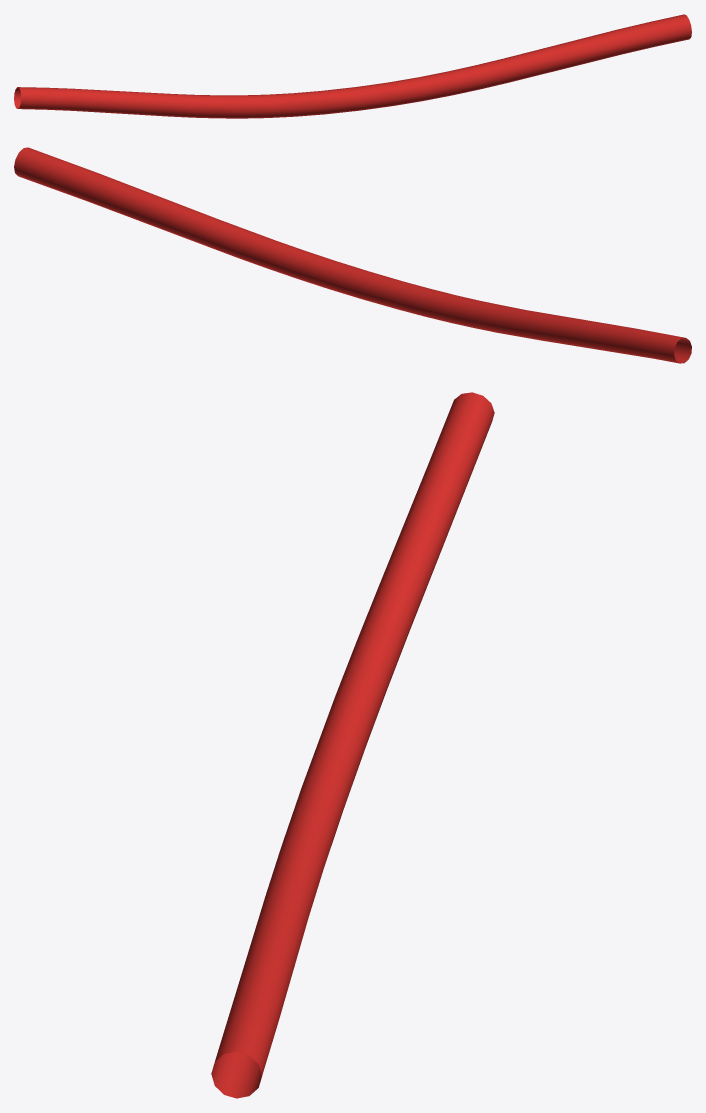
The model's file is circulatorio-palmar-carpal-branch-of-radial-artery-r.glb.
3 renders of one model, top to bottom at view 1: azimuth 30°, elevation 25°; view 2: azimuth 150°, elevation 25°; view 3: azimuth 270°, elevation 25°, orthographic. The views are drawn at different scales.
Parts seen in each view (by area): view 1: Palmar carpal branch of radial artery.r; view 2: Palmar carpal branch of radial artery.r; view 3: Palmar carpal branch of radial artery.r.
Boxes of the visible parts, bbox=[...] form: Palmar carpal branch of radial artery.r: bbox=[14, 14, 691, 118]; Palmar carpal branch of radial artery.r: bbox=[14, 147, 691, 363]; Palmar carpal branch of radial artery.r: bbox=[211, 392, 494, 1098].
Size of the model in its own units: 0.0273 by 0.00292 by 0.00545.
